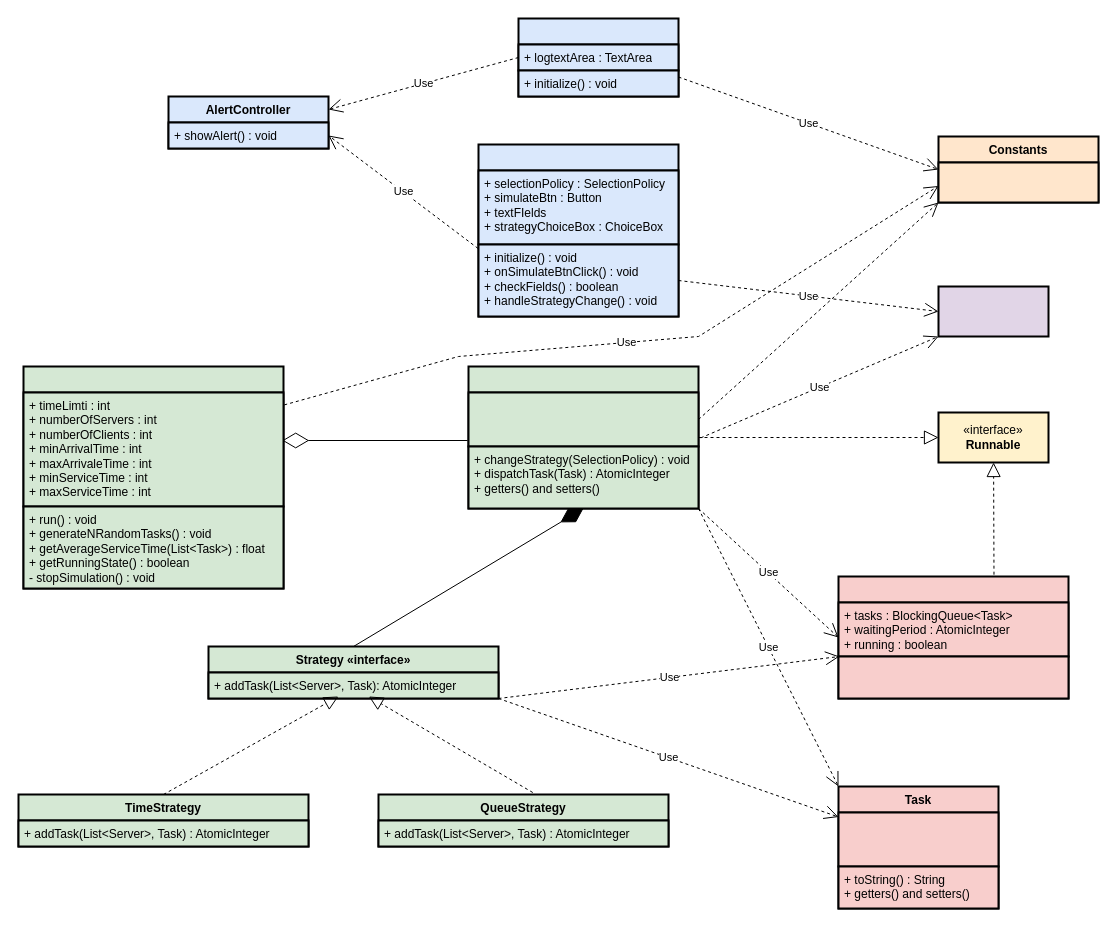
Some shapes in this 1116 by 928 pixel diagram are drawn without their labels. The shapes that lost their labels are listed below. From the top down, each one's box as (x1, y1, x2, y2) in pixels, then its label:
(517, 17, 679, 97): FileLogController
(937, 161, 1099, 203): + SLEEP_TIME : int + FILE_NAME : String
(477, 143, 679, 317): SimulationFrameController
(937, 285, 1049, 337): «enum» SelectionPolicy
(467, 391, 699, 447): + servers : List<Server> + maxNoServers : int + strategy : Strategy
(467, 365, 699, 509): Scheduler
(22, 365, 284, 589): SimulationManager
(837, 575, 1069, 699): Server
(837, 655, 1069, 699): + run(): void + getters() and setters()
(837, 811, 999, 867): + id : int + arrivalTime : int + serviceTime : int
